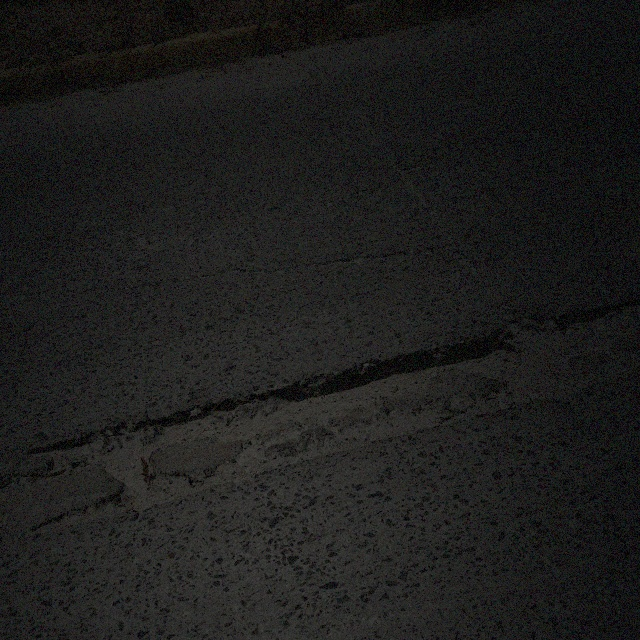pothole: (59, 312, 560, 545), (478, 308, 574, 427), (89, 424, 198, 506), (34, 433, 105, 470)
